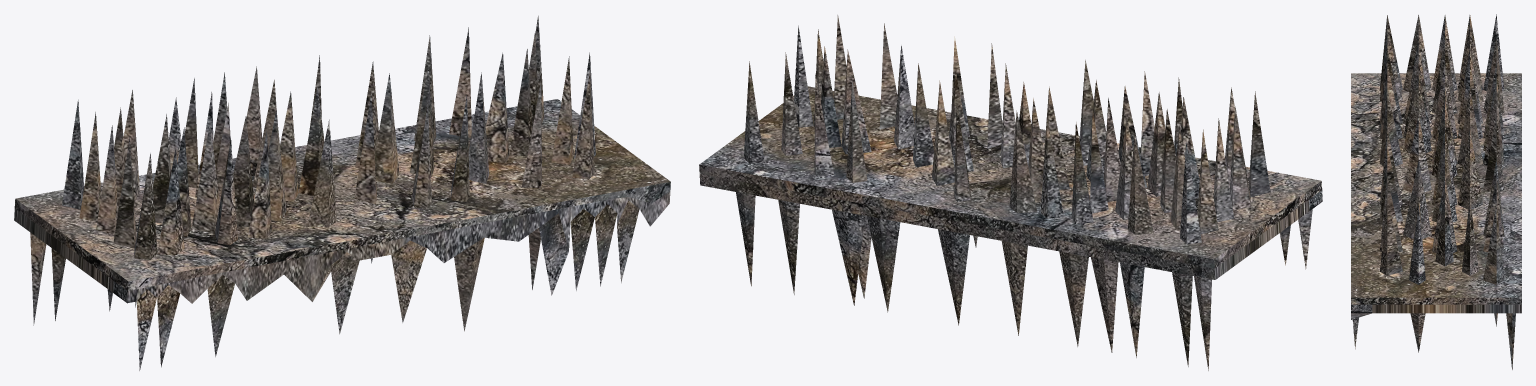
File: spikee_3.fbx
The picture shows the model from 3 angles, left to right: view 1: azimuth 30°, elevation 25°; view 2: azimuth 150°, elevation 25°; view 3: azimuth 270°, elevation 25°; orthographic projection. The views are drawn at different scales.
Parts seen in each view (by area): view 1: headusOBJexport122; view 2: headusOBJexport122; view 3: headusOBJexport122.
Boxes of the visible parts, x1,y1,x2,y2 form: headusOBJexport122: (14,15,670,370); headusOBJexport122: (699,15,1322,370); headusOBJexport122: (1351,14,1521,369).
Bounding box in the file's own units: 248 × 112 × 89.27.
